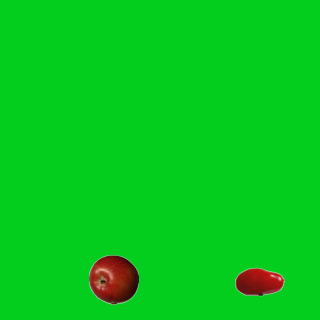Apple Braeburn: (88, 254, 138, 304)
Tomato 2: (234, 256, 284, 306)
